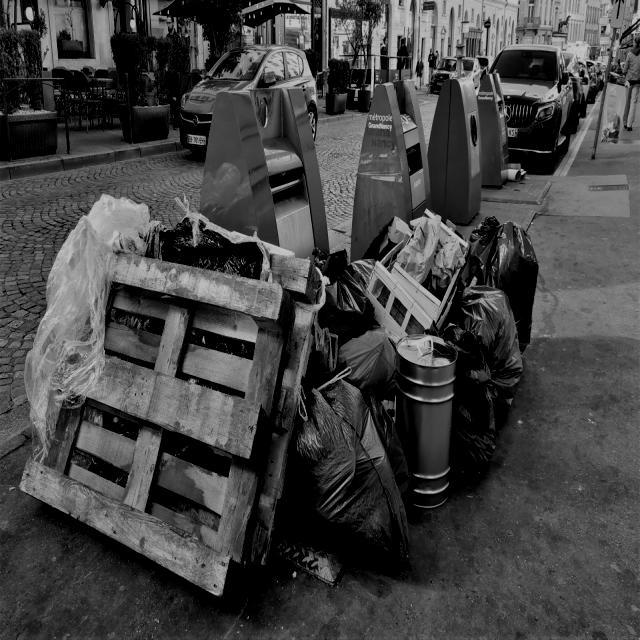high trash: (21, 196, 538, 593)
